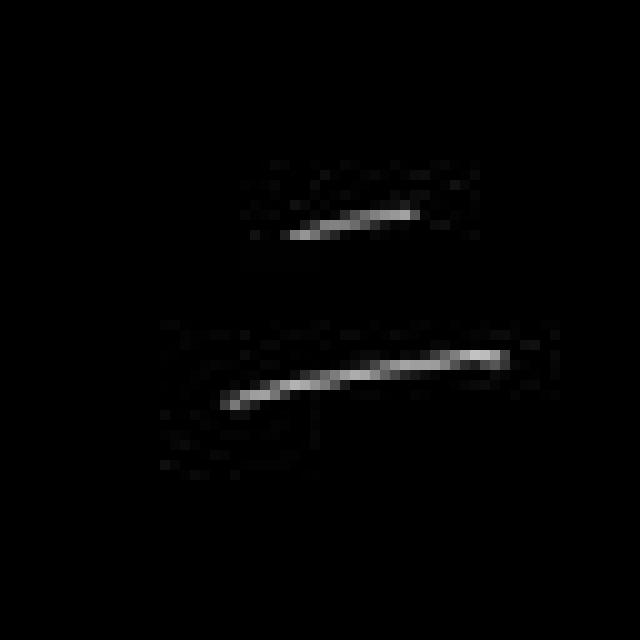2 -two-: (198, 192, 525, 427)
